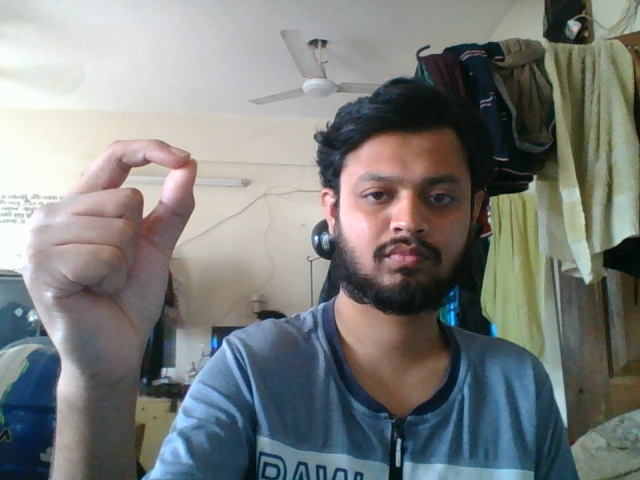gha: (15, 127, 213, 400)
